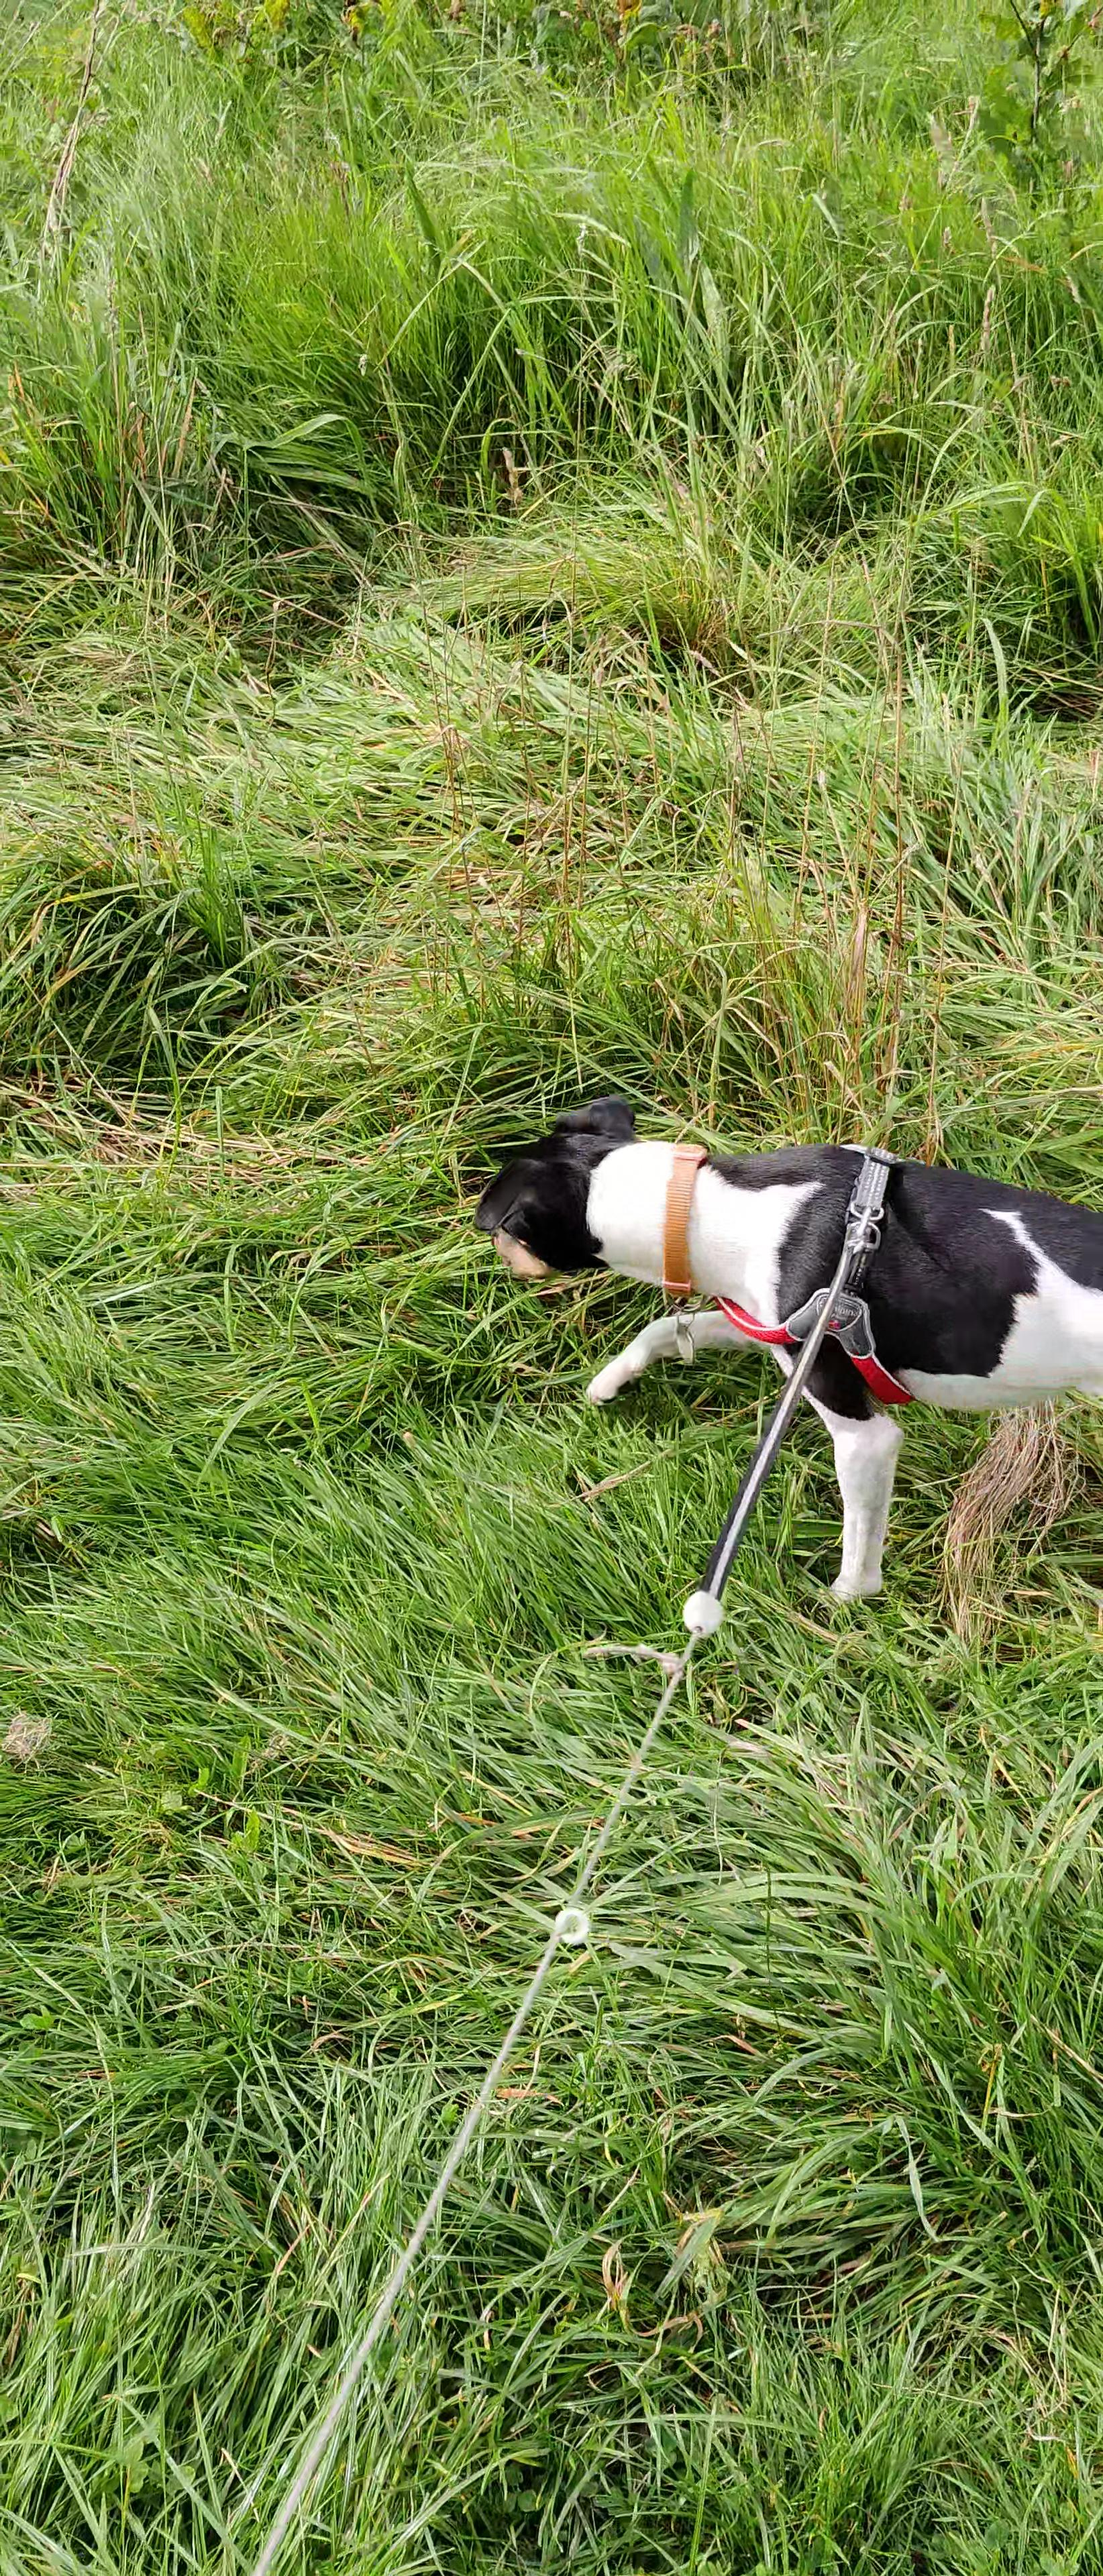Dog: (462, 1086, 1103, 1607)
